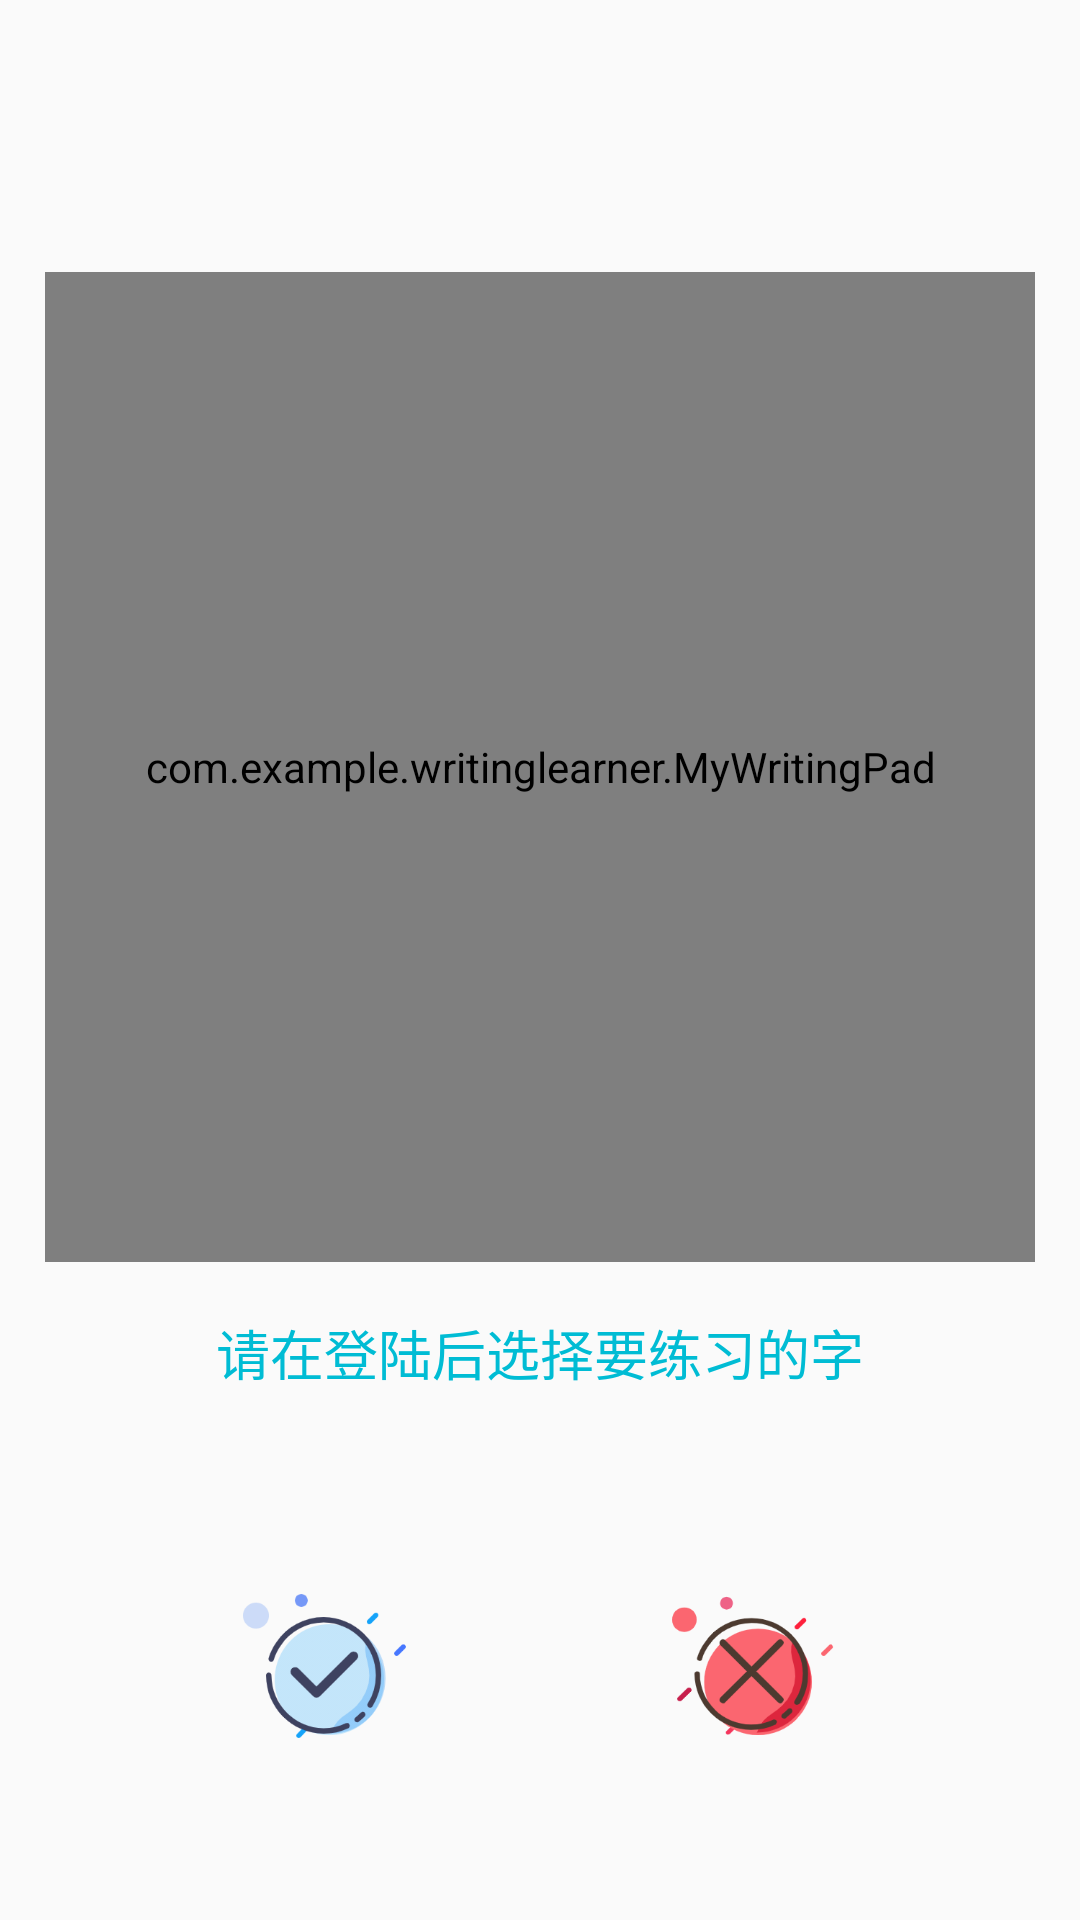

Named icons in this screenshot (1080*1920) and their centers, point (x, y):
clear: point (752, 1666)
finished: point (324, 1666)
